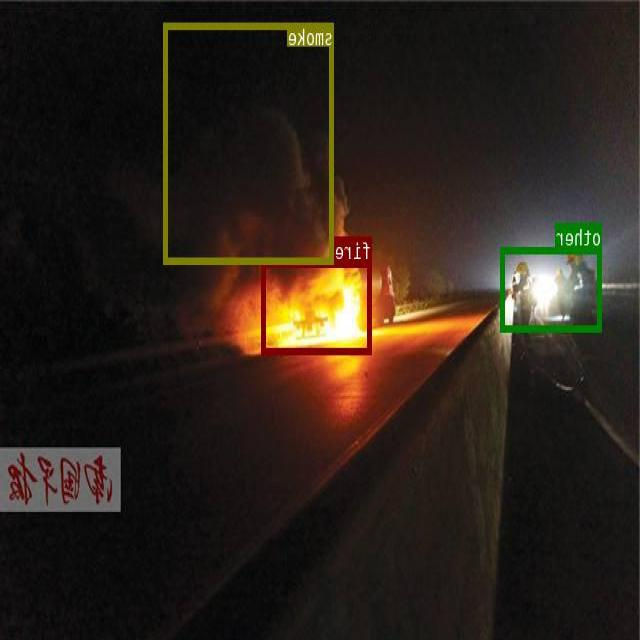fire: (263, 260, 372, 354)
other: (502, 247, 602, 331)
smoke: (164, 22, 335, 262)
